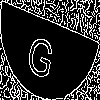G: (25, 25, 58, 81)
